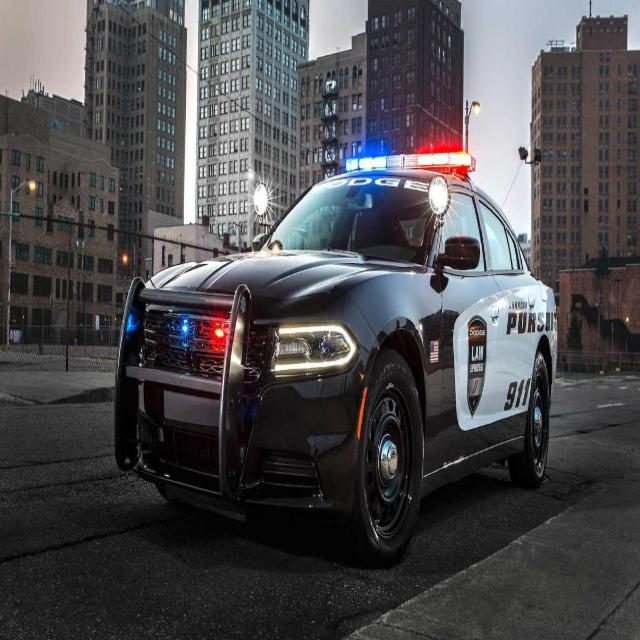cop: (118, 141, 560, 570)
